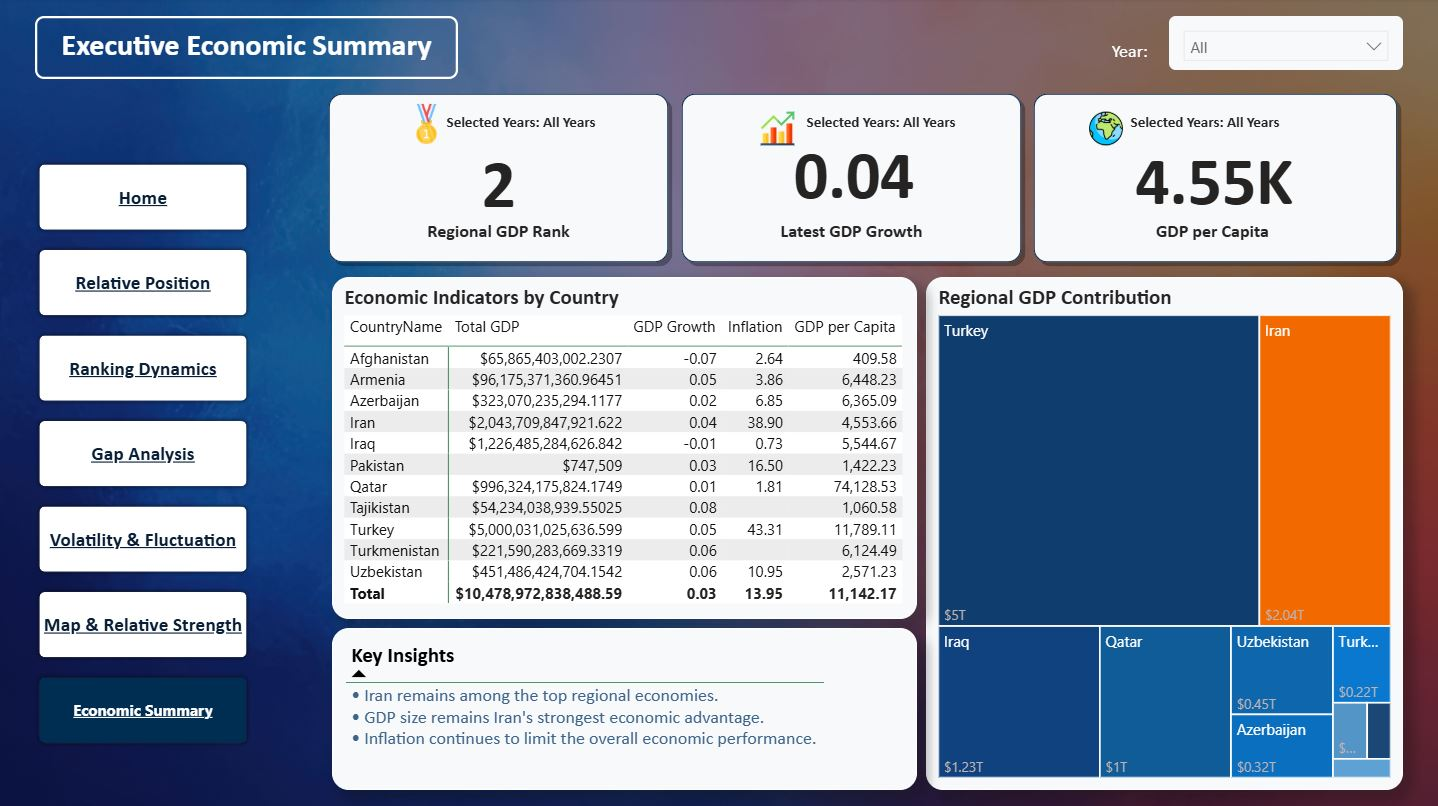

The dashboard page shown, as its layout file describes it:
{"tool":"powerbi","page":{"name":"Economic Summary","canvas":[1280,720],"ordinal":6},"visuals":[{"type":"slicer","fields":{"Values":["DimDate.Year"]},"box":[1040,16,208,48],"z":0},{"type":"shape","box":[288,80,312,160],"z":0,"group":"g1"},{"type":"shape","box":[602,80,312,160],"z":0,"group":"g2"},{"type":"shape","box":[914.8,80,333.2,160],"z":0,"group":"g3"},{"type":"textbox","box":[984,32,56,32],"z":1000},{"type":"pageNavigator","box":[32,144,192,528],"z":2000},{"type":"textbox","box":[32,16,376,56],"z":3000},{"type":"textbox","box":[602,192,312,48],"z":3000,"group":"g2"},{"type":"textbox","box":[288,192,312,48],"z":4000,"group":"g1"},{"type":"textbox","box":[912,192,333.2,48],"z":4000,"group":"g3"},{"type":"treemap","title":"Regional GDP Contribution","fields":{"Group":["DimCountry.CountryName"],"Values":["Measure.TotalGDP"]},"box":[824,248,424,456],"z":4000},{"type":"pivotTable","title":"Economic Indicators by Country","fields":{"Rows":["DimCountry.CountryName"],"Values":["Measure.TotalGDP","Measure.AverageGDPGrowth","Measure.AverageInflation","Measure.GDPperCapita"]},"box":[296,248,520,304],"z":5000},{"type":"tableEx","title":"Key Insights and Executive Summary","fields":{"Values":["Measure.P6Insights"]},"box":[296,560,520,144],"z":6000},{"type":"group","id":"g1","title":"Group 1","box":[288,80,312,160],"z":7000},{"type":"group","id":"g2","title":"Group 1","box":[602,80,312,160],"z":8000},{"type":"group","id":"g3","title":"Group 1","box":[912,80,336,160],"z":9000},{"type":"card","fields":{"Values":["Measure.SelectedYear"]},"box":[384,80,160,64],"z":10000},{"type":"card","fields":{"Values":["Measure.SelectedYear"]},"box":[992,80,160,64],"z":11000},{"type":"card","fields":{"Values":["Measure.SelectedYear"]},"box":[704,80,160,64],"z":12000},{"type":"card","fields":{"Values":["Measure.LatestGDPGrowth"]},"box":[608,112,304,80],"z":13000},{"type":"card","fields":{"Values":["Measure.IranGDPRank"]},"box":[296,128,296,64],"z":14000},{"type":"image","box":[352,88,56,48],"z":15000},{"type":"image","box":[672,96,40,40],"z":16000},{"type":"image","box":[960,96,48,40],"z":17000},{"type":"card","fields":{"Values":["Measure.IranGDPperCapita"]},"box":[920,136,320,64],"z":18000}]}

Visuals, with their boxes in screenshot pixels (x1, y1, x2, y2), scaled from the page's 1280x720 canvas onto the 1438x806 screenshot:
slicer - DimDate.Year: x1=1168, y1=18, x2=1402, y2=72
shape: x1=324, y1=90, x2=674, y2=269
shape: x1=676, y1=90, x2=1027, y2=269
shape: x1=1028, y1=90, x2=1402, y2=269
textbox: x1=1105, y1=36, x2=1168, y2=72
pageNavigator: x1=36, y1=161, x2=252, y2=752
textbox: x1=36, y1=18, x2=458, y2=81
textbox: x1=676, y1=215, x2=1027, y2=269
textbox: x1=324, y1=215, x2=674, y2=269
textbox: x1=1025, y1=215, x2=1399, y2=269
"Regional GDP Contribution" treemap: x1=926, y1=278, x2=1402, y2=788
"Economic Indicators by Country" pivotTable: x1=333, y1=278, x2=917, y2=618
"Key Insights and Executive Summary" tableEx: x1=333, y1=627, x2=917, y2=788
"Group 1" group: x1=324, y1=90, x2=674, y2=269
"Group 1" group: x1=676, y1=90, x2=1027, y2=269
"Group 1" group: x1=1025, y1=90, x2=1402, y2=269
card - Measure.SelectedYear: x1=431, y1=90, x2=611, y2=161
card - Measure.SelectedYear: x1=1114, y1=90, x2=1294, y2=161
card - Measure.SelectedYear: x1=791, y1=90, x2=971, y2=161
card - Measure.LatestGDPGrowth: x1=683, y1=125, x2=1025, y2=215
card - Measure.IranGDPRank: x1=333, y1=143, x2=665, y2=215
image: x1=395, y1=99, x2=458, y2=152
image: x1=755, y1=107, x2=800, y2=152
image: x1=1078, y1=107, x2=1132, y2=152
card - Measure.IranGDPperCapita: x1=1034, y1=152, x2=1393, y2=224
